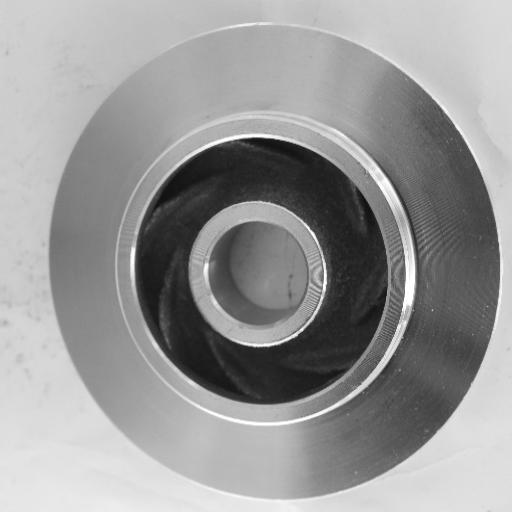polished_casting: (45, 23, 501, 500)
